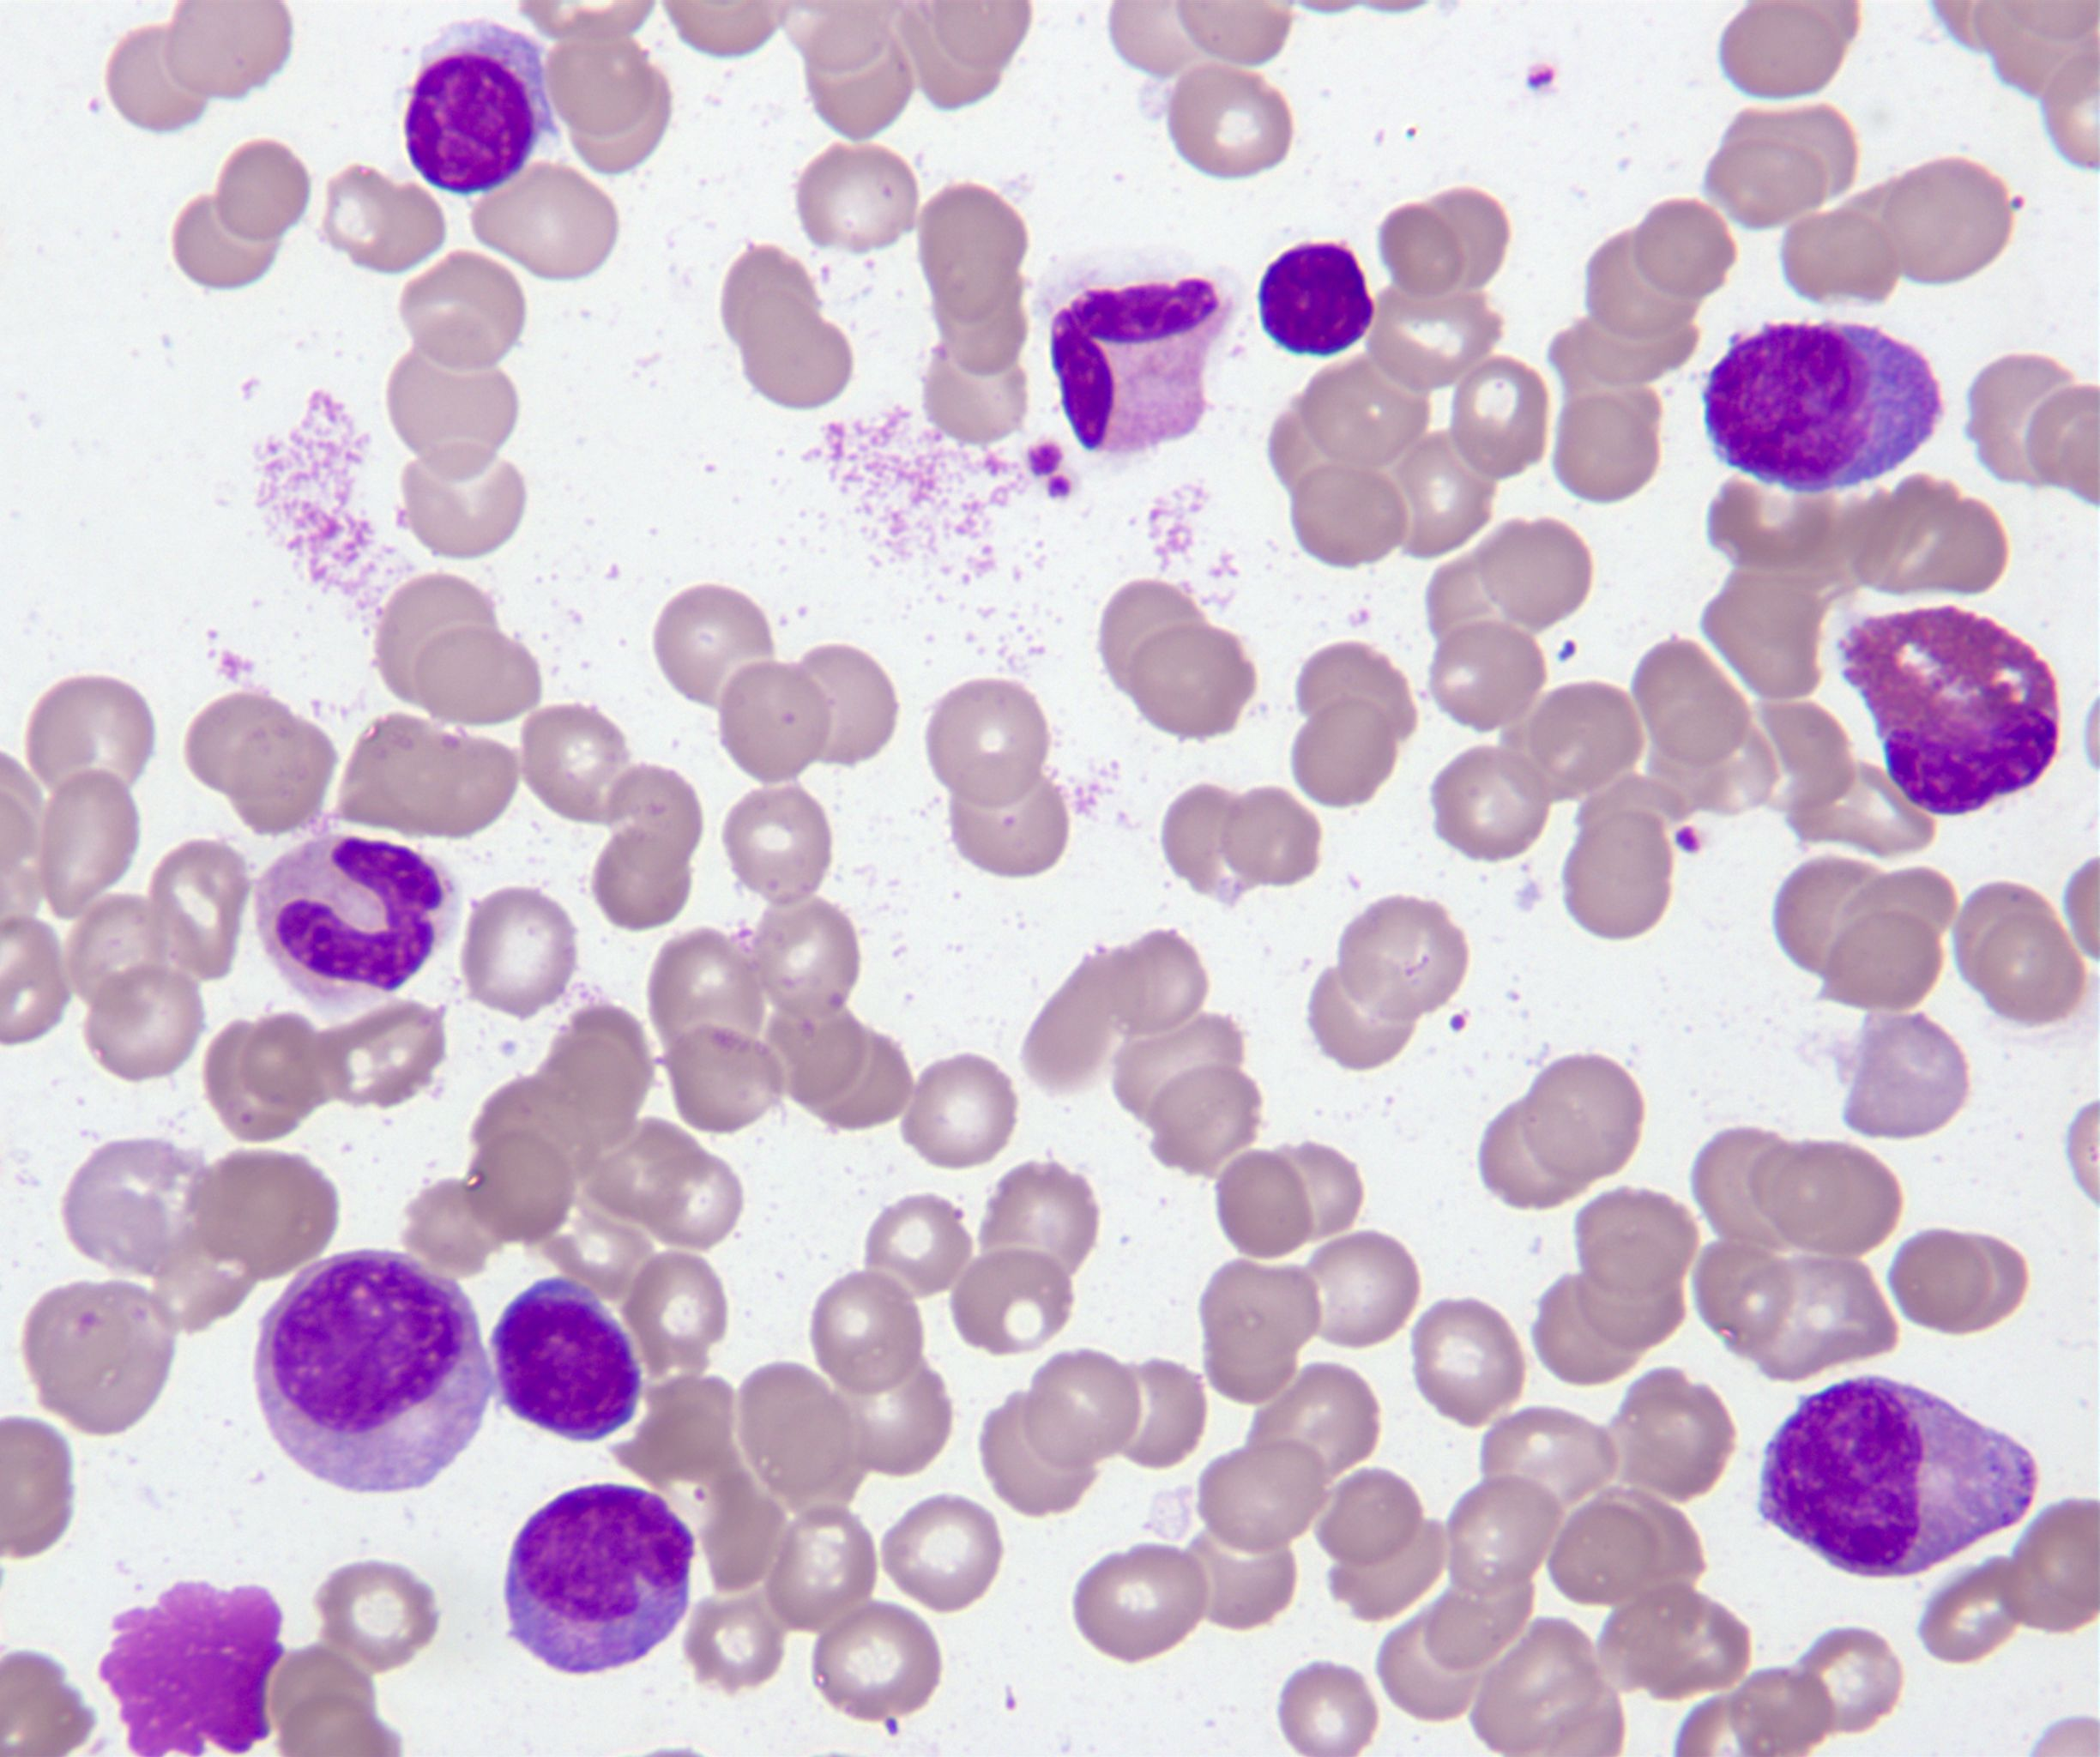3: (253, 1251, 494, 1494), (1762, 1377, 2037, 1576)
32: (406, 19, 560, 194), (487, 1277, 640, 1441)
42: (1704, 323, 1941, 492)
5: (255, 834, 459, 1022), (1055, 277, 1233, 454)
E3: (1840, 605, 2058, 815)
x: (506, 1487, 692, 1675), (99, 1583, 284, 1757), (1259, 244, 1374, 356)
